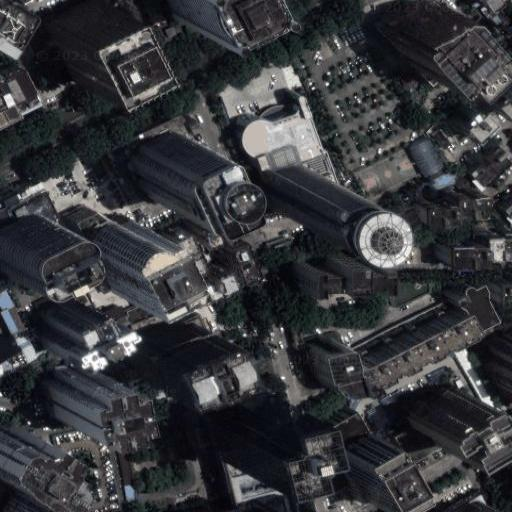building: (346, 300, 466, 377), (46, 0, 128, 81), (207, 52, 294, 125), (240, 94, 322, 168), (139, 131, 211, 208), (90, 220, 162, 296), (0, 437, 77, 507), (166, 334, 247, 399), (343, 432, 403, 503), (404, 384, 467, 446), (125, 0, 223, 37), (81, 379, 141, 438), (262, 166, 321, 225), (0, 216, 53, 278), (61, 306, 124, 357), (216, 423, 264, 469), (0, 193, 55, 231), (0, 66, 35, 125), (233, 398, 277, 443), (440, 270, 482, 316), (311, 337, 349, 387), (452, 133, 494, 173), (431, 490, 491, 512), (114, 444, 136, 502), (334, 254, 379, 281), (334, 413, 369, 447), (216, 230, 243, 268), (450, 99, 482, 128), (487, 172, 512, 209), (98, 437, 116, 487), (470, 223, 508, 246), (58, 194, 90, 221), (189, 260, 222, 286), (435, 233, 471, 256), (484, 77, 511, 104), (299, 259, 326, 285), (440, 183, 474, 203), (410, 191, 441, 212), (409, 156, 437, 175), (173, 235, 193, 260), (163, 220, 183, 241), (485, 271, 505, 292), (497, 14, 512, 38), (85, 290, 105, 305), (486, 198, 500, 213), (453, 163, 465, 177), (451, 99, 465, 111), (470, 0, 485, 11), (502, 136, 512, 148), (92, 494, 105, 502)
